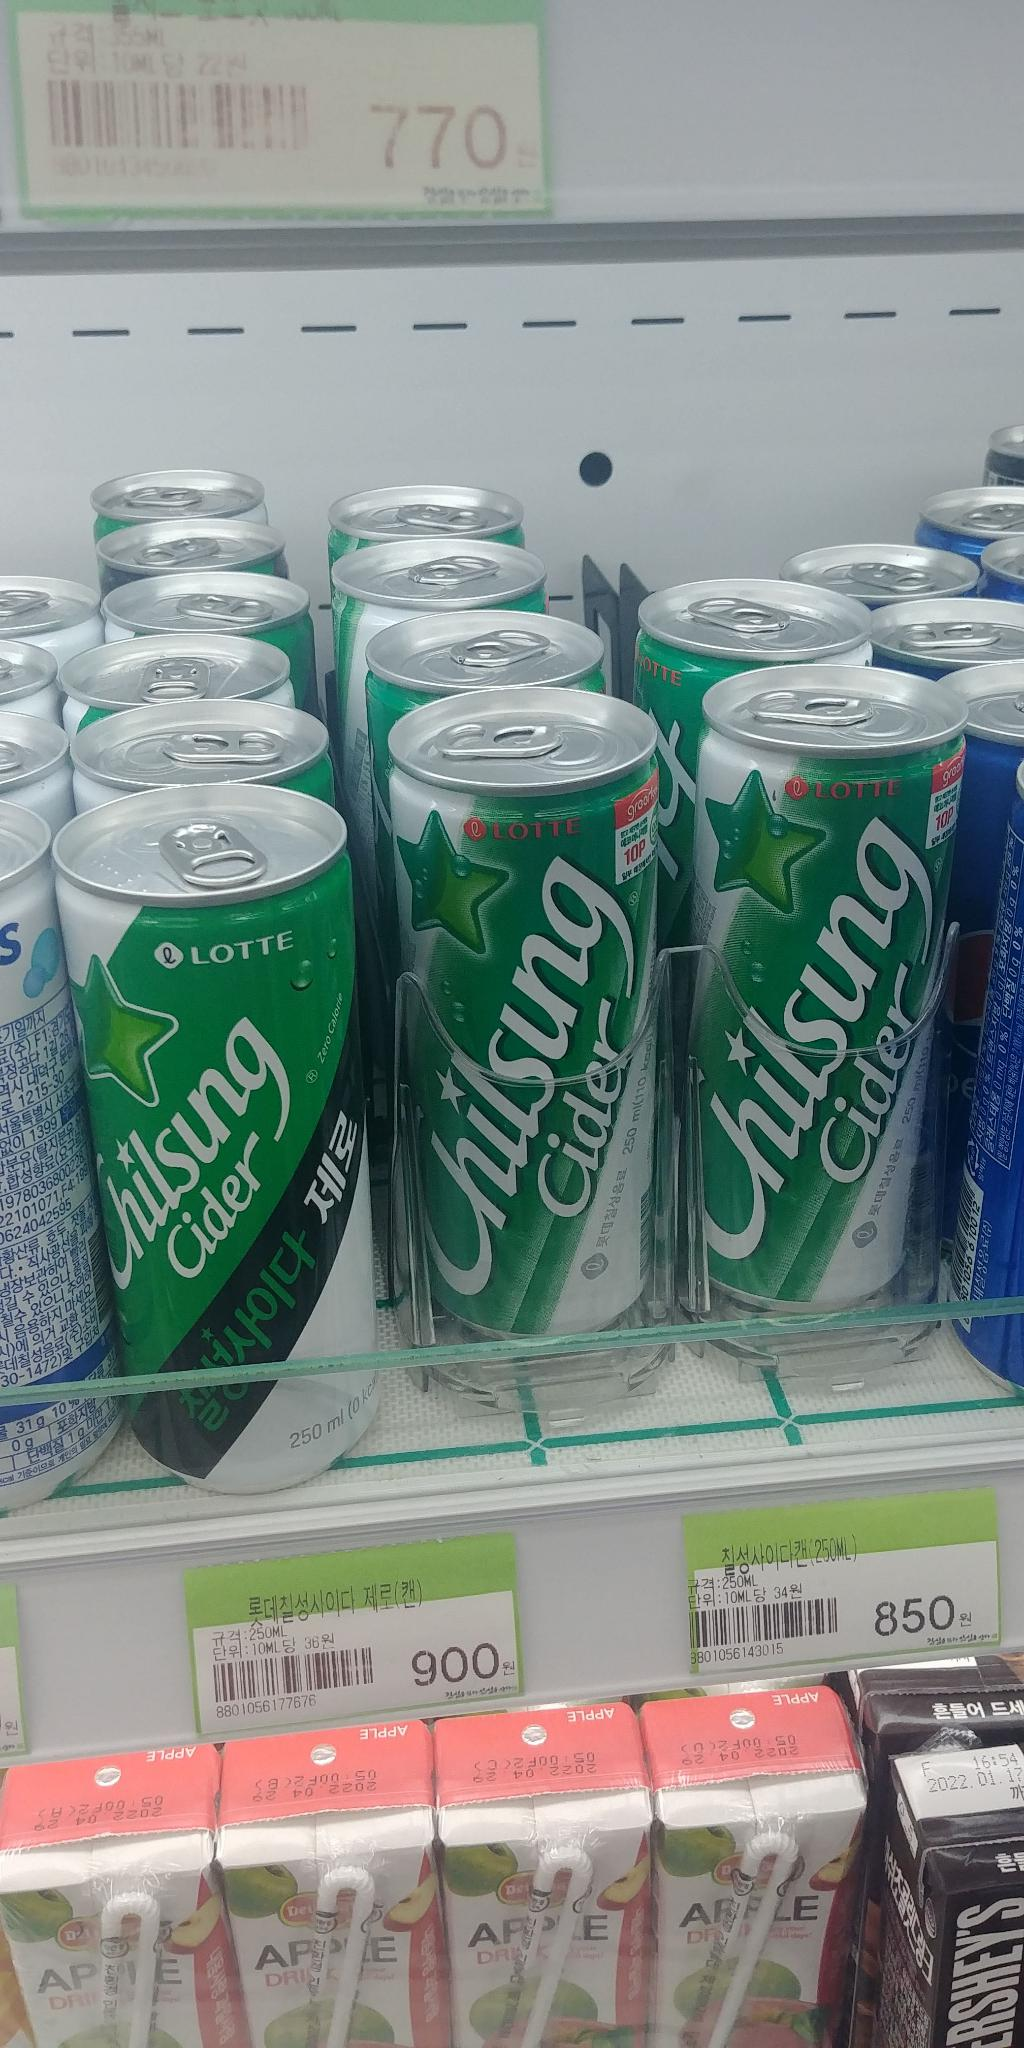chilsungcider_zero: (35, 788, 421, 1501)
